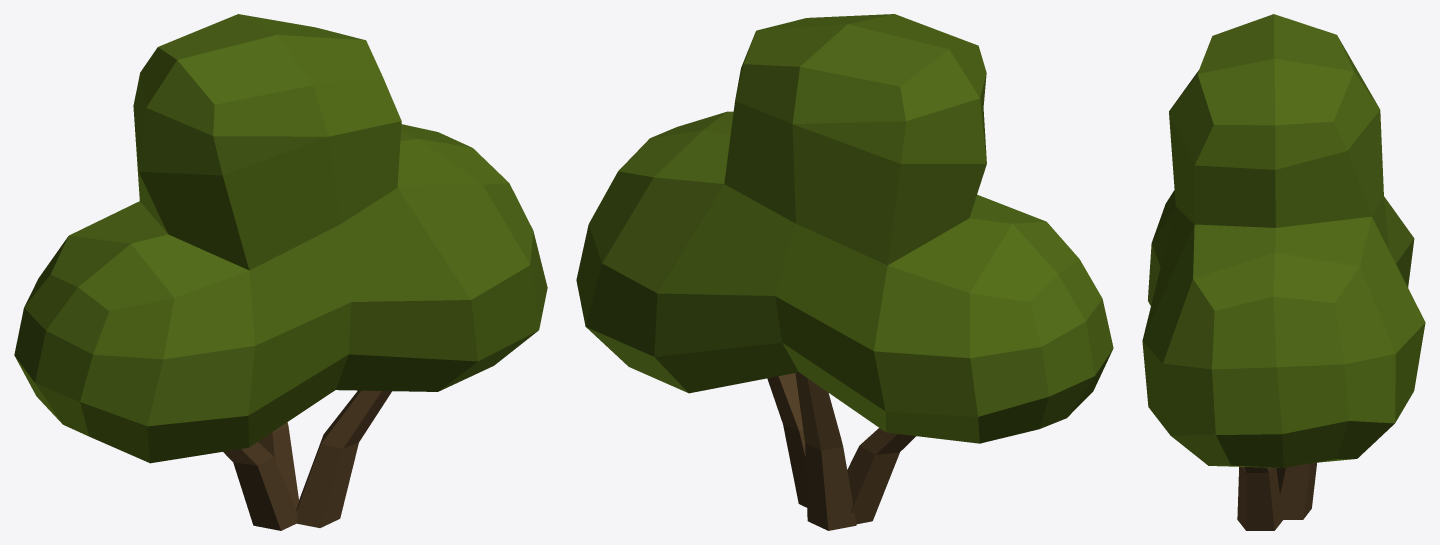
File: TreesAndBushes_055.fbx
3 views of the same model, side by side, from view 1: azimuth 30°, elevation 25°; view 2: azimuth 150°, elevation 25°; view 3: azimuth 270°, elevation 25° (orthographic). The views are drawn at different scales.
Visible parts, largest first — view 1: TreesAndBushes_055; view 2: TreesAndBushes_055; view 3: TreesAndBushes_055.
Part boxes in pixels (x1=…): TreesAndBushes_055: x1=14, y1=14, x2=547, y2=530; TreesAndBushes_055: x1=576, y1=14, x2=1113, y2=530; TreesAndBushes_055: x1=1142, y1=14, x2=1425, y2=530.
Size of the model in its own units: 84.22 by 80.5 by 45.86.
